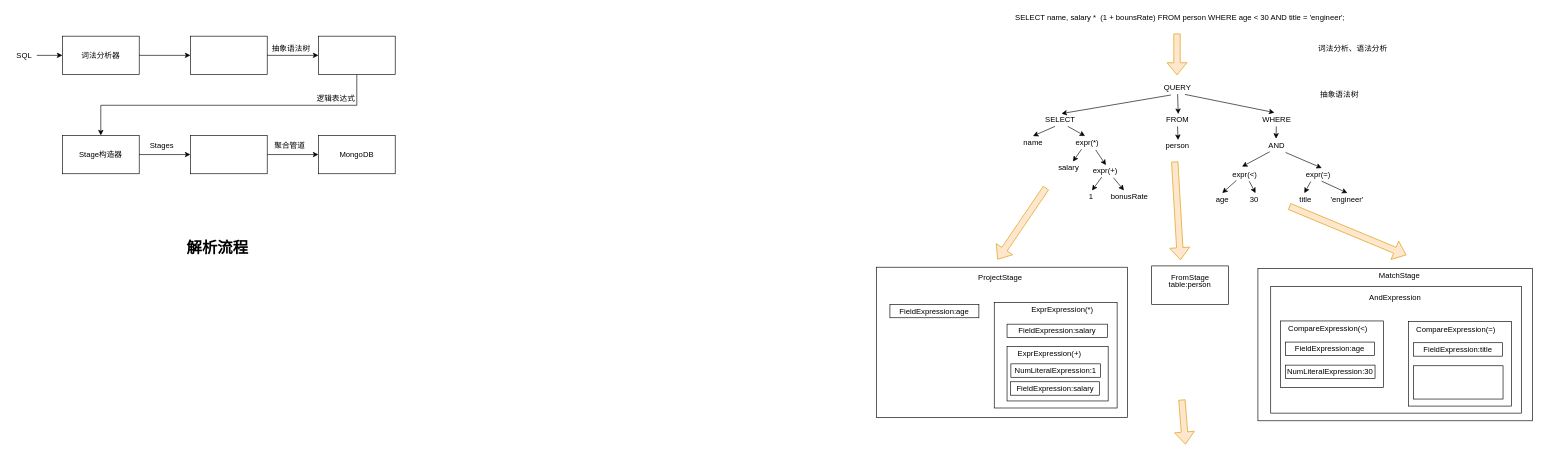
Image size: 1544x455. Some labels were removed from this diagram. The centre of each missing label's shape, as x and y in pixels:
TextLiteralExpression: 'engineer': pixel 1458 382
管道构造器: pixel 228 154
表达式构造器: pixel 356 55
语法分析器: pixel 228 55
